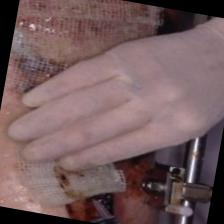orthopaedic-wounds: (60, 185, 131, 224)
